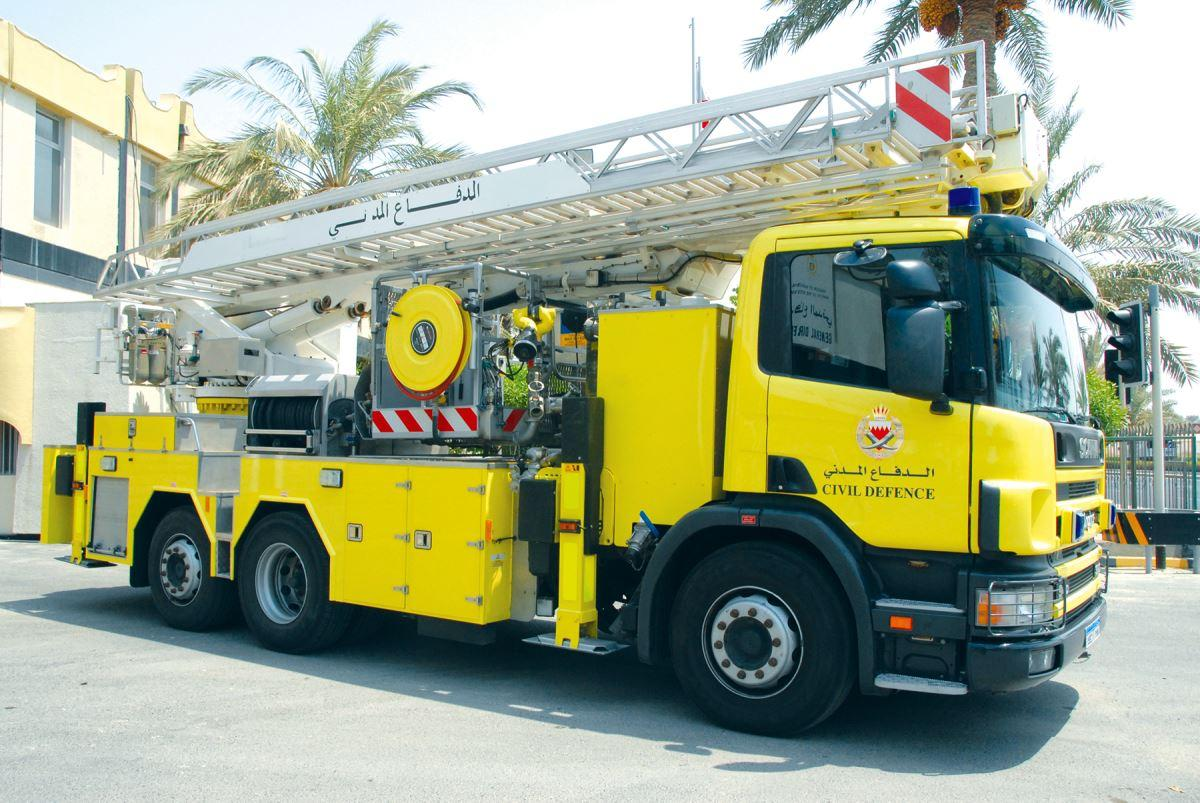firetruck_off: (45, 45, 1114, 740)
